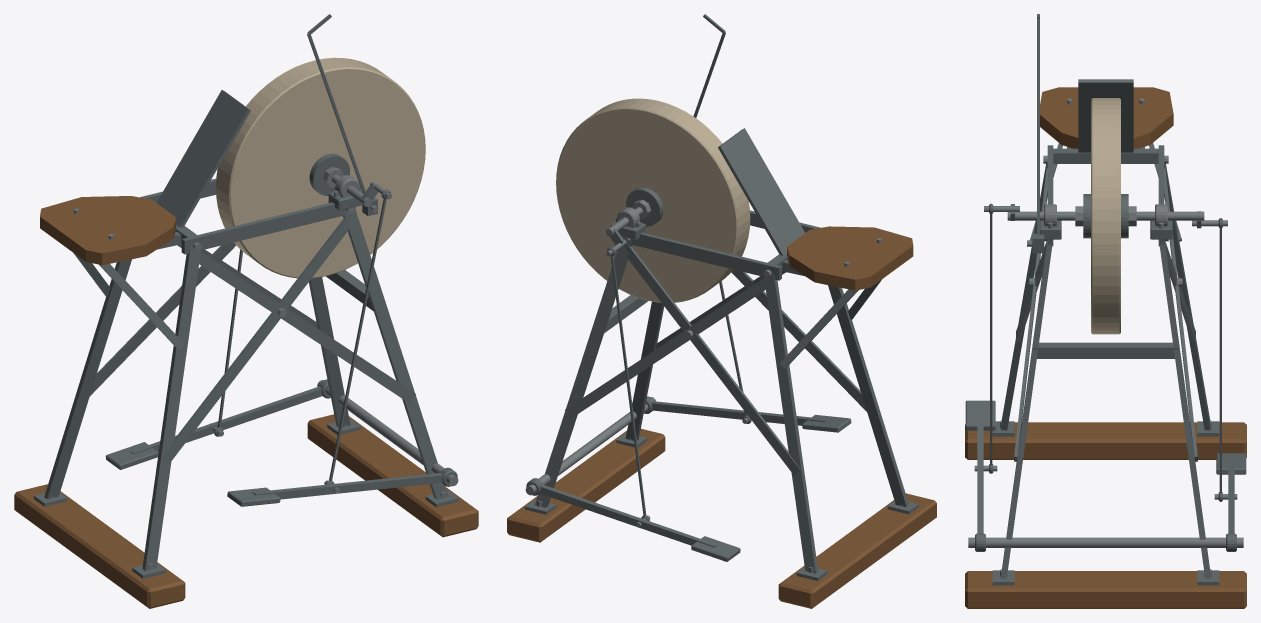
File: NEW457_Treadle_Grindstone_LOD1.glb
The picture shows the model from 3 angles, left to right: view 1: azimuth 30°, elevation 25°; view 2: azimuth 150°, elevation 25°; view 3: azimuth 270°, elevation 25°; orthographic projection. The views are drawn at different scales.
Visible parts, largest first — view 1: Single_Thick_Grindstone, Solid_Tapered_Seat, Wooden_Floor_Foot_0, Wooden_Floor_Foot_1, Fixed_Inclined_Plate_Purpose_Unverified, A_Frame_Leg_0_0, A_Frame_Leg_1_0, A_Frame_Leg_0_1, Cross_Brace_Rising_-1, Cross_Brace_Falling_-1, Upper_Longitudinal_Rail_-1, A_Frame_Leg_1_1 (+11 smaller); view 2: Single_Thick_Grindstone, Solid_Tapered_Seat, Wooden_Floor_Foot_0, Wooden_Floor_Foot_1, Fixed_Inclined_Plate_Purpose_Unverified, A_Frame_Leg_0_1, A_Frame_Leg_1_1, A_Frame_Leg_0_0, Cross_Brace_Rising_1, Cross_Brace_Falling_1, Upper_Longitudinal_Rail_1, Long_Treadle_Arm_1 (+10 smaller); view 3: Wooden_Floor_Foot_1, Wooden_Floor_Foot_0, Single_Thick_Grindstone, Solid_Tapered_Seat, Lower_Treadle_Pivot_Spindle, Fixed_Inclined_Plate_Purpose_Unverified, Lower_Stone_Clearance_Crossbar, A_Frame_Leg_1_0, A_Frame_Leg_1_1, A_Frame_Leg_0_1, A_Frame_Leg_0_0, Cross_Brace_Falling_1 (+14 smaller).
Part boxes in pixels (left/top/right/bottom): Single_Thick_Grindstone: left=216, top=57, right=425, bottom=278; Solid_Tapered_Seat: left=40, top=196, right=176, bottom=265; Wooden_Floor_Foot_0: left=14, top=484, right=185, bottom=608; Wooden_Floor_Foot_1: left=307, top=414, right=478, bottom=537; Fixed_Inclined_Plate_Purpose_Unverified: left=156, top=90, right=250, bottom=227; A_Frame_Leg_0_0: left=142, top=245, right=201, bottom=570; A_Frame_Leg_1_0: left=343, top=207, right=448, bottom=499; A_Frame_Leg_0_1: left=44, top=259, right=131, bottom=498; Cross_Brace_Rising_-1: left=161, top=214, right=352, bottom=464; Cross_Brace_Falling_-1: left=199, top=250, right=415, bottom=403; Upper_Longitudinal_Rail_-1: left=181, top=202, right=355, bottom=254; A_Frame_Leg_1_1: left=309, top=277, right=350, bottom=427; Single_Thick_Grindstone: left=556, top=98, right=750, bottom=302; Solid_Tapered_Seat: left=787, top=226, right=913, bottom=290; Wooden_Floor_Foot_0: left=778, top=493, right=936, bottom=608; Wooden_Floor_Foot_1: left=507, top=428, right=665, bottom=542; Fixed_Inclined_Plate_Purpose_Unverified: left=718, top=128, right=804, bottom=255; A_Frame_Leg_0_1: left=764, top=272, right=818, bottom=573; A_Frame_Leg_1_1: left=535, top=237, right=632, bottom=507; A_Frame_Leg_0_0: left=828, top=285, right=909, bottom=507; Cross_Brace_Rising_1: left=624, top=243, right=800, bottom=475; Cross_Brace_Falling_1: left=565, top=277, right=765, bottom=418; Upper_Longitudinal_Rail_1: left=630, top=232, right=781, bottom=280; Long_Treadle_Arm_1: left=539, top=484, right=717, bottom=547; Wooden_Floor_Foot_1: left=965, top=571, right=1246, bottom=608; Wooden_Floor_Foot_0: left=965, top=422, right=1246, bottom=459; Single_Thick_Grindstone: left=1091, top=98, right=1120, bottom=334; Solid_Tapered_Seat: left=1040, top=87, right=1173, bottom=148; Lower_Treadle_Pivot_Spindle: left=968, top=537, right=1243, bottom=547; Fixed_Inclined_Plate_Purpose_Unverified: left=1078, top=79, right=1133, bottom=152; Lower_Stone_Clearance_Crossbar: left=1033, top=342, right=1178, bottom=358; A_Frame_Leg_1_0: left=1001, top=240, right=1052, bottom=578; A_Frame_Leg_1_1: left=1159, top=240, right=1210, bottom=578; A_Frame_Leg_0_1: left=1164, top=162, right=1210, bottom=430; A_Frame_Leg_0_0: left=1001, top=162, right=1047, bottom=430; Cross_Brace_Falling_1: left=1164, top=166, right=1197, bottom=461.
Bounding box in the file's own units: 0.8872 × 1.23 × 0.5842.
